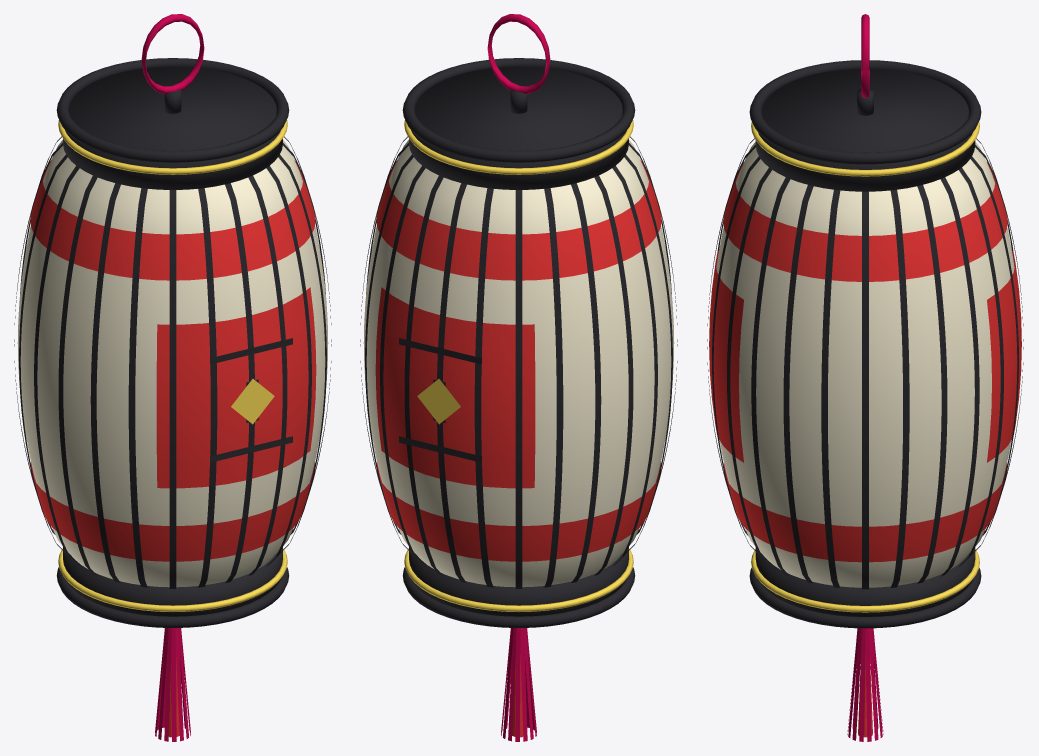
The model's file is craft_chochin.glb.
3 views of the same model, side by side, from view 1: azimuth 30°, elevation 25°; view 2: azimuth 150°, elevation 25°; view 3: azimuth 270°, elevation 25° (orthographic).
Parts seen in each view (by area): view 1: Paper_Body, Red_Panel_1, Rim_Top, Red_Band_Top, Red_Band_Bottom, Rim_Top_Ring, Rim_Bottom, Rib_16, Rim_Bottom_Ring, Rib_15, Rib_17, Rib_14 (+15 smaller); view 2: Paper_Body, Red_Panel_0, Rim_Top, Red_Band_Top, Red_Band_Bottom, Rim_Top_Ring, Rim_Bottom, Rib_08, Rim_Bottom_Ring, Rib_09, Rib_07, Rib_10 (+15 smaller); view 3: Paper_Body, Rim_Top, Red_Band_Top, Red_Band_Bottom, Rim_Top_Ring, Rim_Bottom, Red_Panel_0, Red_Panel_1, Rim_Bottom_Ring, Rib_01, Rib_23, Rib_00 (+13 smaller).
Part boxes in pixels (bbox=[...]): Paper_Body: bbox=[17, 140, 328, 587]; Red_Panel_1: bbox=[156, 287, 316, 488]; Rim_Top: bbox=[63, 66, 282, 189]; Red_Band_Top: bbox=[30, 160, 315, 280]; Red_Band_Bottom: bbox=[30, 462, 315, 561]; Rim_Top_Ring: bbox=[56, 58, 289, 162]; Rim_Bottom: bbox=[63, 547, 282, 616]; Rib_16: bbox=[169, 190, 176, 588]; Rim_Bottom_Ring: bbox=[56, 567, 289, 627]; Rib_15: bbox=[128, 188, 147, 587]; Rib_17: bbox=[198, 188, 217, 587]; Rib_14: bbox=[90, 183, 120, 583]; Paper_Body: bbox=[363, 140, 674, 587]; Red_Panel_0: bbox=[375, 287, 535, 488]; Rim_Top: bbox=[409, 66, 628, 189]; Red_Band_Top: bbox=[376, 160, 661, 280]; Red_Band_Bottom: bbox=[376, 462, 661, 561]; Rim_Top_Ring: bbox=[402, 58, 635, 162]; Rim_Bottom: bbox=[409, 547, 628, 616]; Rib_08: bbox=[515, 190, 522, 588]; Rim_Bottom_Ring: bbox=[402, 567, 635, 627]; Rib_09: bbox=[544, 188, 563, 587]; Rib_07: bbox=[474, 188, 493, 587]; Rib_10: bbox=[571, 183, 601, 583]; Paper_Body: bbox=[716, 142, 1014, 587]; Rim_Top: bbox=[755, 68, 975, 191]; Red_Band_Top: bbox=[723, 162, 1007, 281]; Red_Band_Bottom: bbox=[723, 462, 1007, 562]; Rim_Top_Ring: bbox=[749, 60, 981, 164]; Rim_Bottom: bbox=[755, 547, 975, 616]; Red_Panel_0: bbox=[987, 250, 1021, 462]; Red_Panel_1: bbox=[709, 250, 743, 462]; Rim_Bottom_Ring: bbox=[749, 568, 981, 628]; Rib_01: bbox=[890, 189, 909, 587]; Rib_23: bbox=[821, 189, 840, 587]; Rib_00: bbox=[862, 191, 868, 589].
Size of the model in its own units: 0.7784 by 1.95 by 0.7842.
